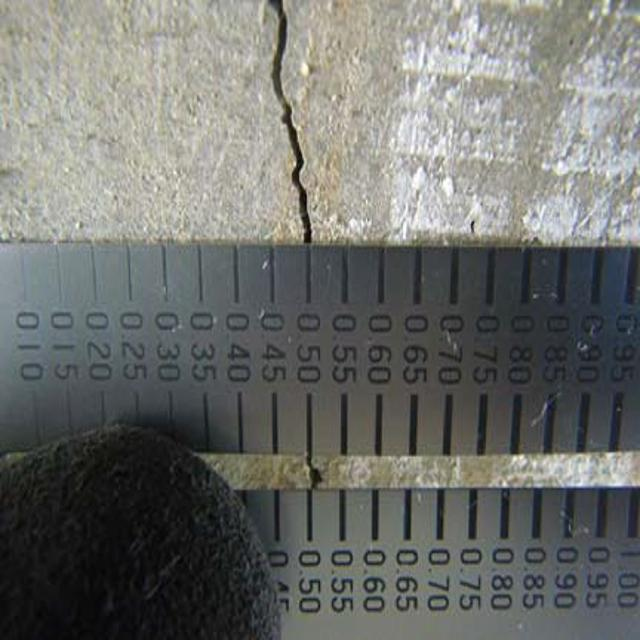crack: (244, 5, 327, 242)
